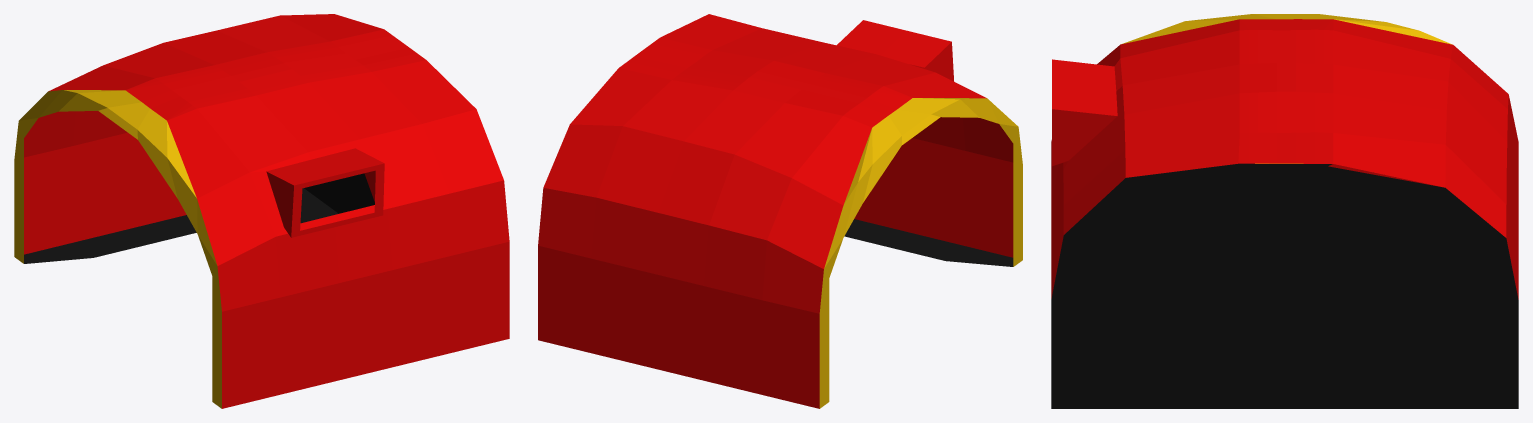
Rendered from C0.Cowl.1cFR.Export.glb.
3 renders of one model, left to right at view 1: azimuth 30°, elevation 25°; view 2: azimuth 150°, elevation 25°; view 3: azimuth 270°, elevation 25°, orthographic. The views are drawn at different scales.
Visible parts, largest first — view 1: Cube.003; view 2: Cube.003; view 3: Cube.003.
Part boxes in pixels (x1,y1,x2,y2): Cube.003: (14,14,509,408); Cube.003: (538,14,1022,408); Cube.003: (1051,14,1518,408).
Size of what is drawn, in the model's own units: 0.75 by 0.5612 by 0.9375.
